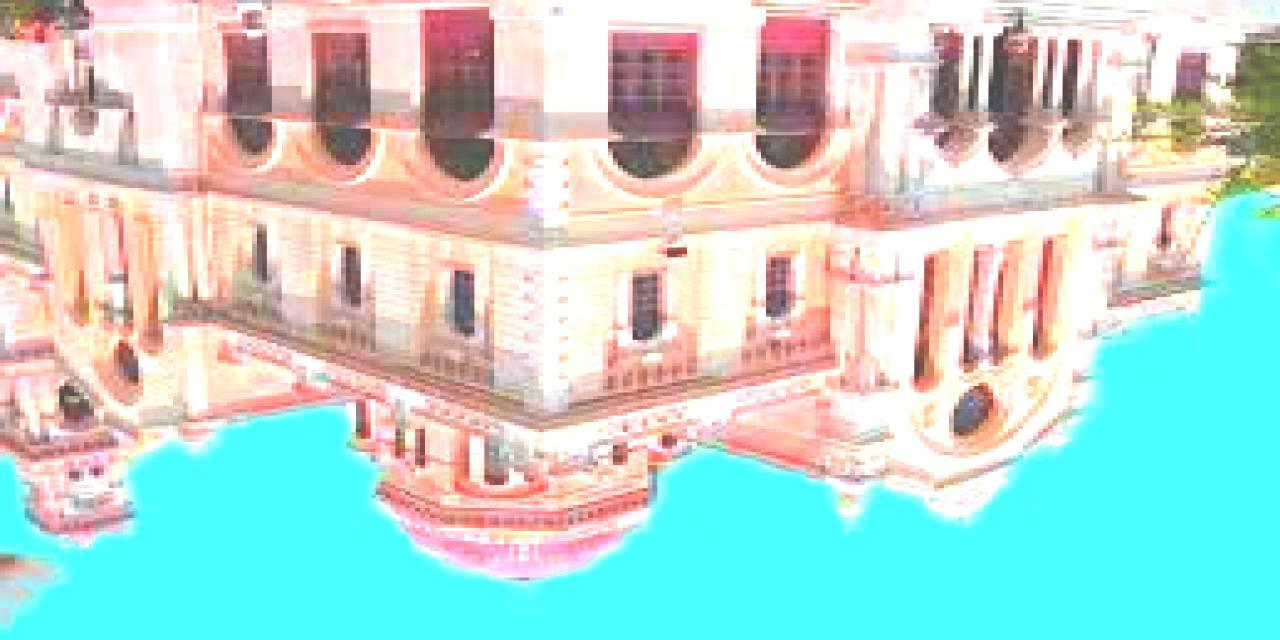Agios Minas: (1, 1, 1209, 612)
